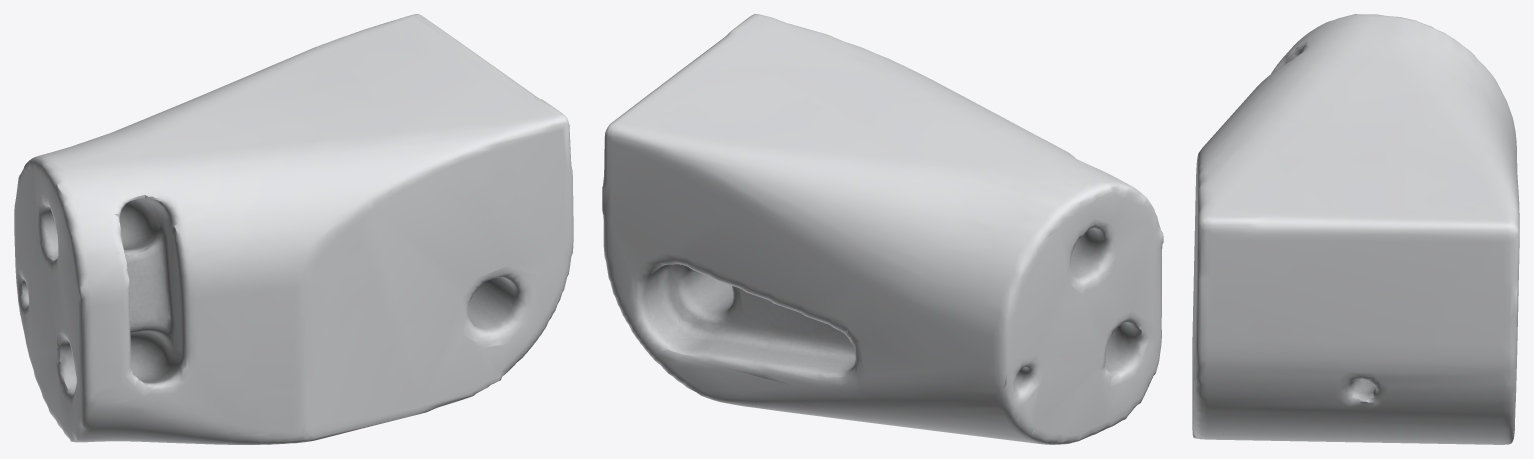
File: right_thomb_to_palm.obj
3 views of the same model, side by side, from view 1: azimuth 30°, elevation 25°; view 2: azimuth 150°, elevation 25°; view 3: azimuth 270°, elevation 25° (orthographic). The views are drawn at different scales.
Visible parts, largest first — view 1: right_thomb_to_palm; view 2: right_thomb_to_palm; view 3: right_thomb_to_palm.
Boxes of the visible parts, left/top/right/bottom form: right_thomb_to_palm: left=14, top=14, right=573, bottom=444; right_thomb_to_palm: left=602, top=14, right=1163, bottom=444; right_thomb_to_palm: left=1192, top=14, right=1519, bottom=444.
Size of the model in its own units: 0.0343 by 0.0192 by 0.0204.
Materials: 1 (1 with a texture image).
